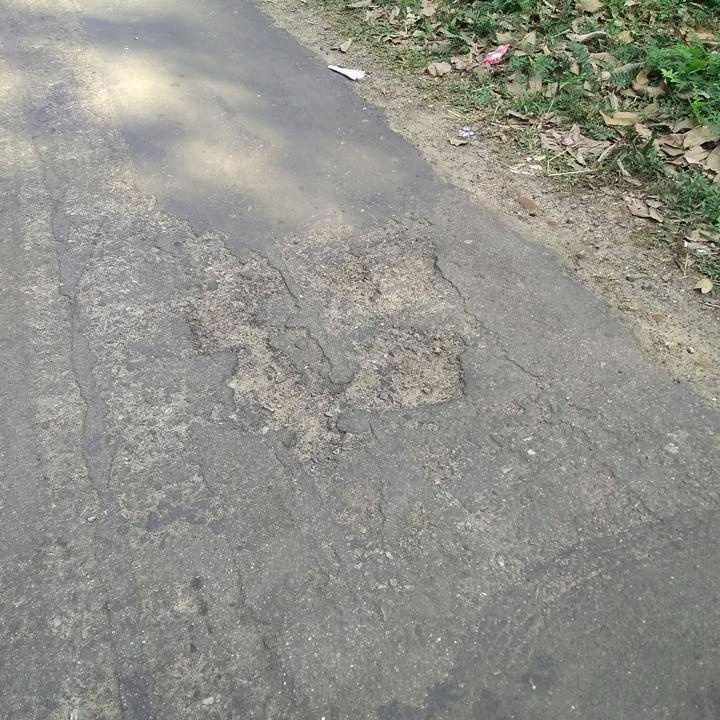pothole: (174, 223, 488, 465)
